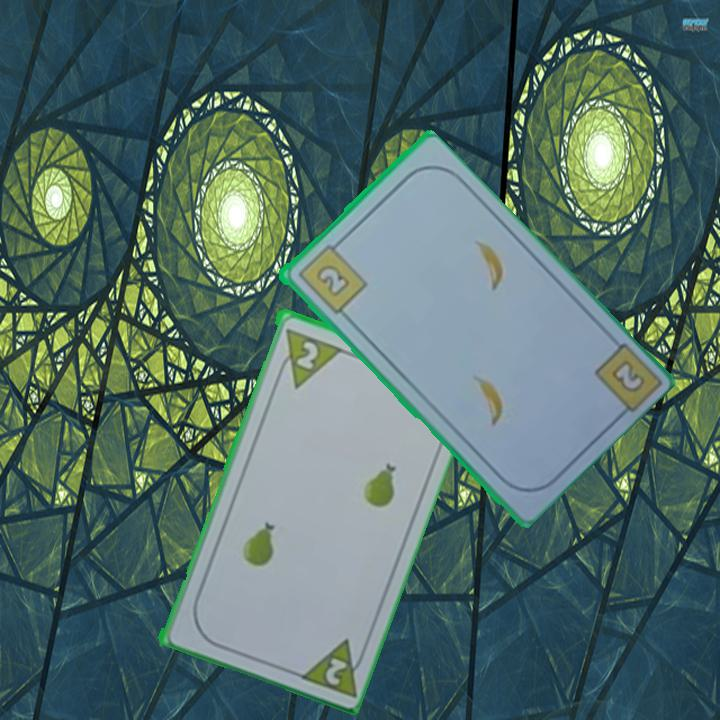2b: (293, 236, 370, 317), (606, 356, 648, 396)
2p: (293, 634, 370, 700), (291, 337, 321, 372)
